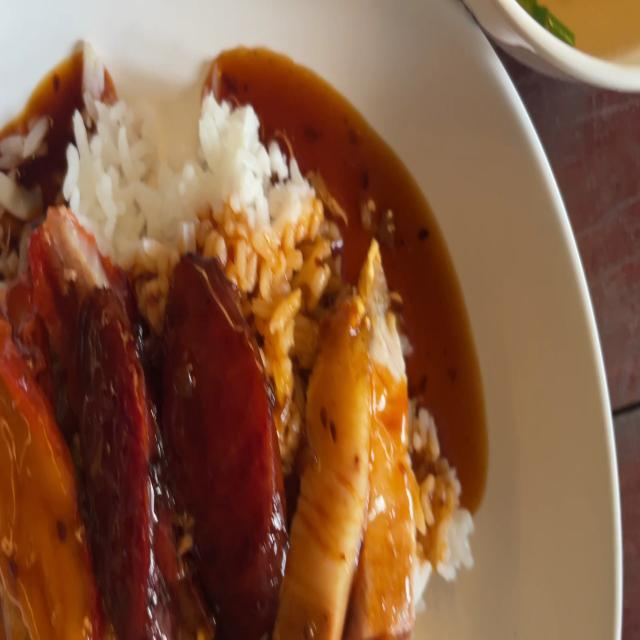01chainese_sausage: (80, 261, 284, 610), (160, 264, 280, 612), (70, 289, 158, 613)
01crispy_pork: (304, 259, 418, 640), (288, 294, 362, 640), (358, 251, 418, 640)
01red_pork: (0, 331, 80, 640), (20, 206, 94, 329)
01red_pork_and_crispy_pork: (0, 56, 470, 640)
01rice: (71, 41, 350, 256), (245, 164, 322, 364), (416, 405, 477, 637)
